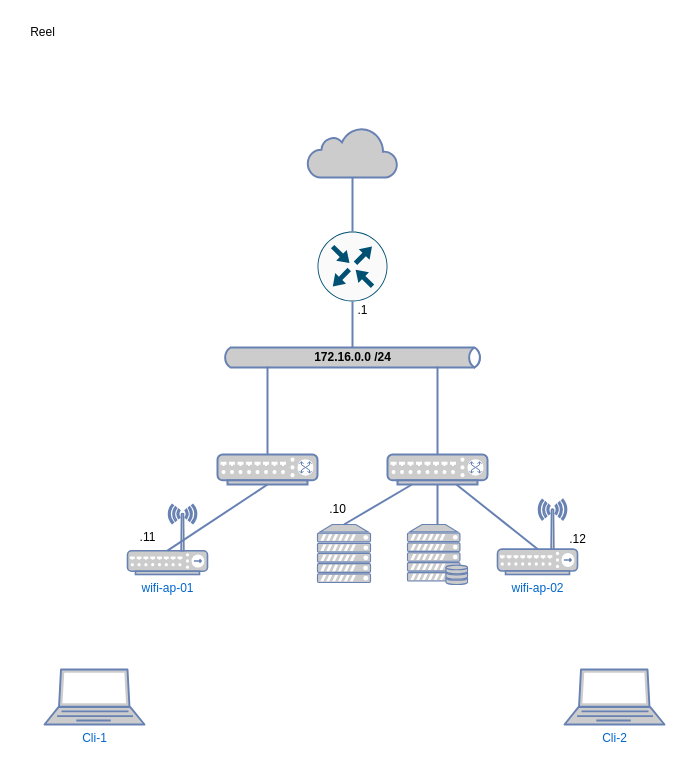
Some shapes in this 682 by 762 pixel diagram are drawn without their labels. The centre of each missing label's shape, as x and y in pixels:
"wifi-con-01" goes at (x=343, y=553).
"wifi-nasa-01" goes at (x=437, y=554).
